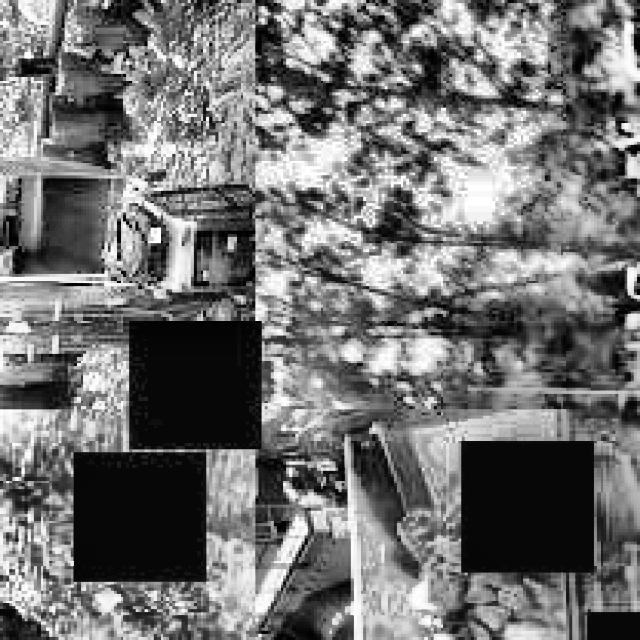buldozerpayloadergrader: (255, 409, 640, 640)
dump_truck: (283, 409, 640, 640)
excavator: (0, 92, 252, 406), (412, 111, 640, 406)
